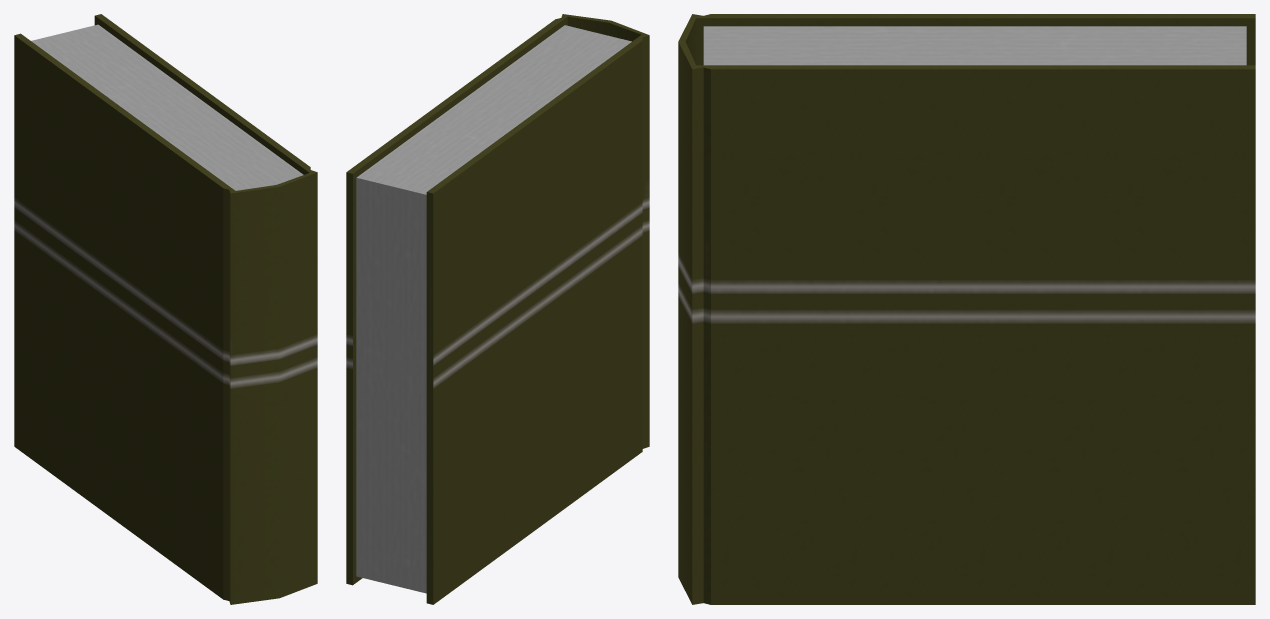
Rendered from Prop_Books_2.fbx.
3 views of the same model, side by side, from view 1: azimuth 30°, elevation 25°; view 2: azimuth 150°, elevation 25°; view 3: azimuth 270°, elevation 25° (orthographic). The views are drawn at different scales.
Parts seen in each view (by area): view 1: Prop_Books_2; view 2: Prop_Books_2; view 3: Prop_Books_2.
Boxes of the visible parts, x1,y1,x2,y2 form: Prop_Books_2: (14, 14, 317, 604); Prop_Books_2: (346, 14, 649, 604); Prop_Books_2: (678, 14, 1255, 604).
Size of the model in its own units: 0.0306 by 0.138 by 0.1348.
